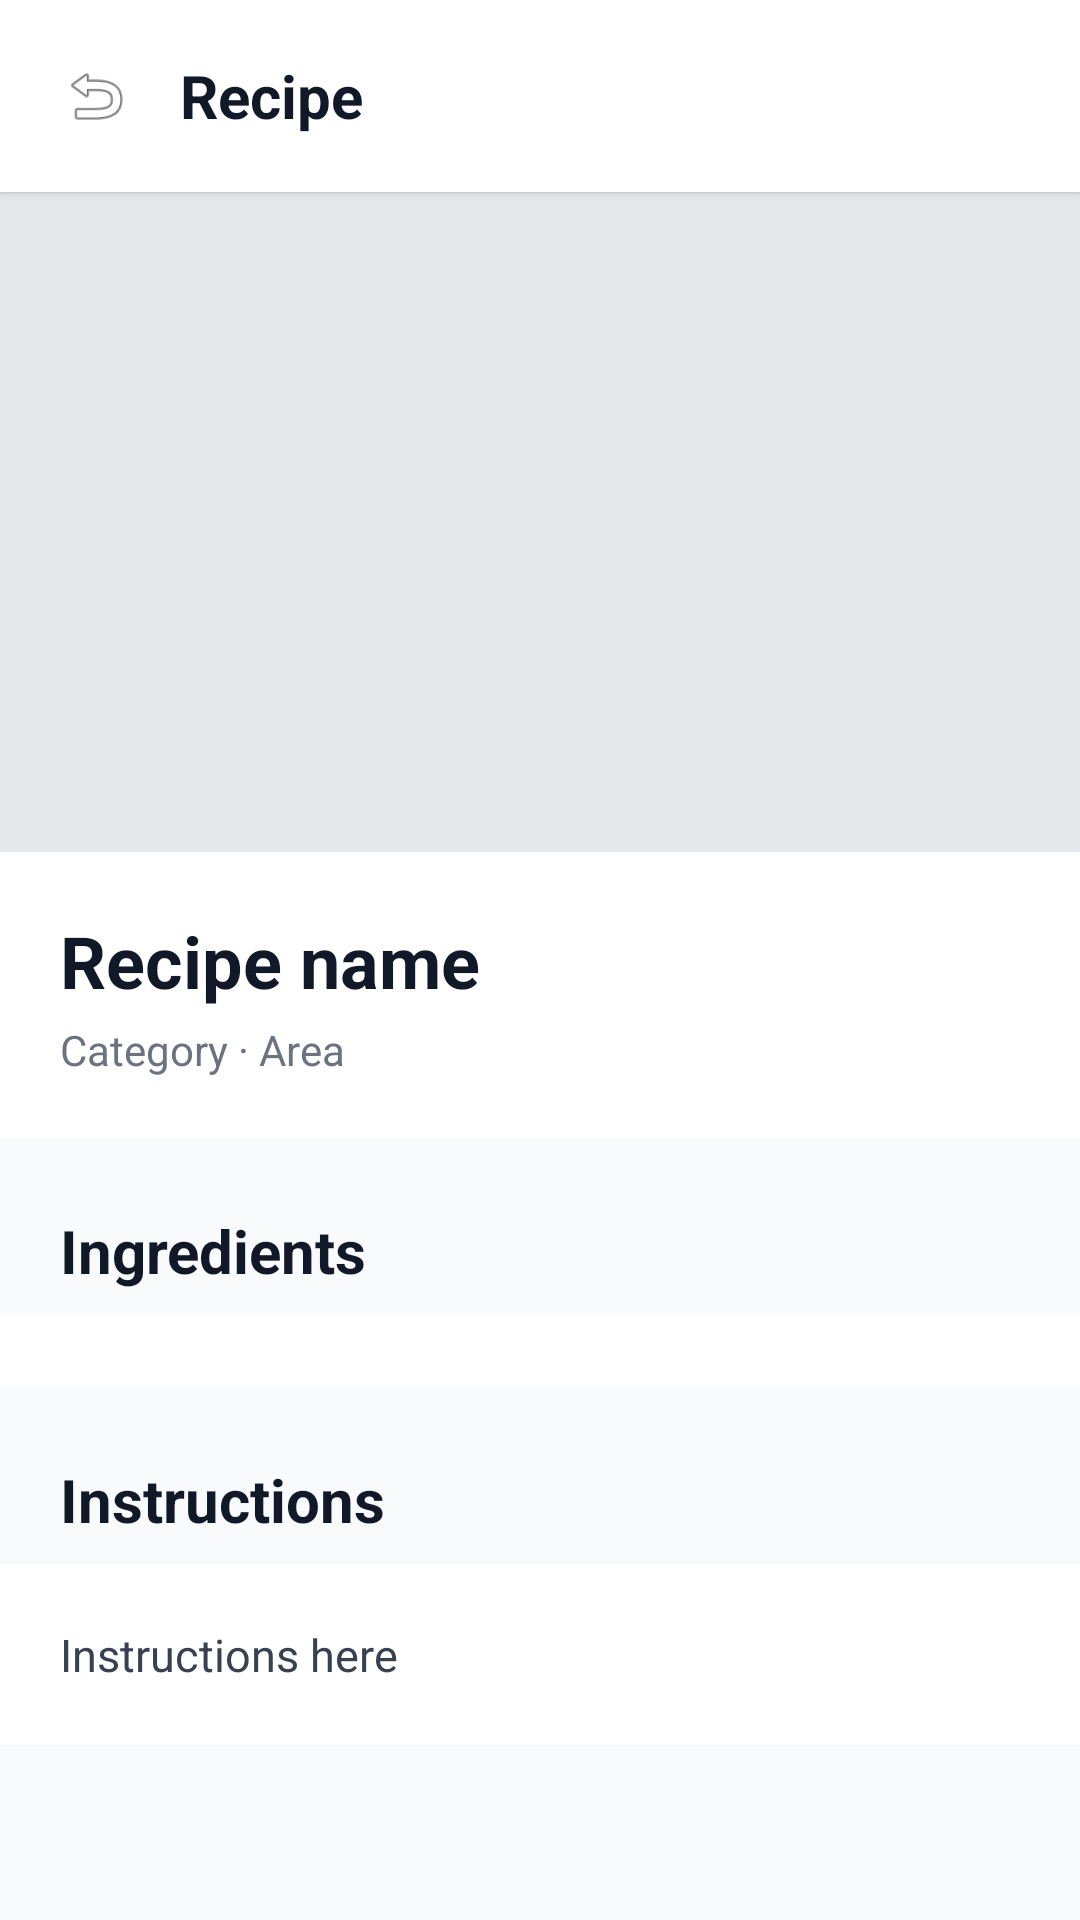

Point at icon controls on the screen. Image size 1080px×1920px, points as point (x, y).
Back: point (97, 96)
